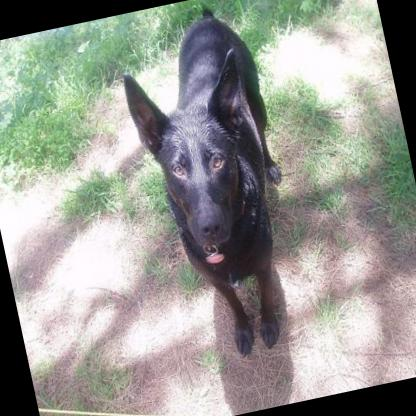kelpie: (109, 0, 315, 365)
